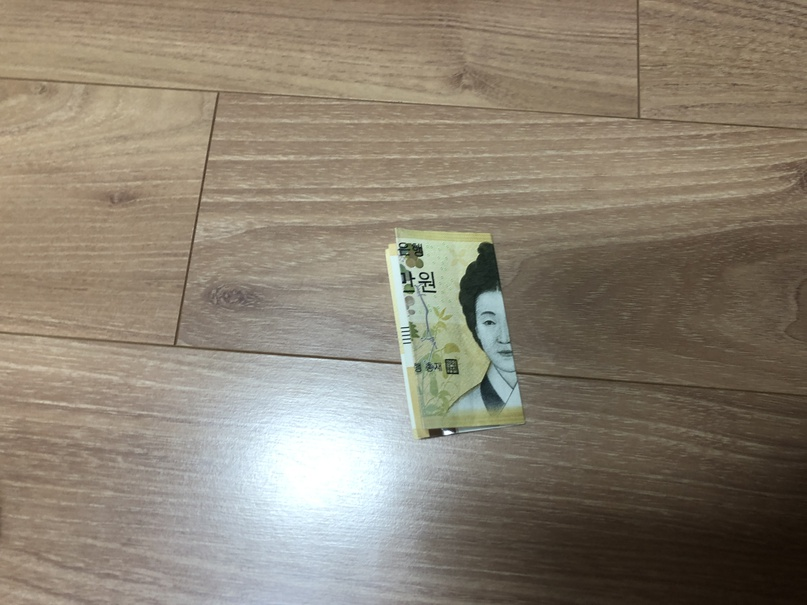50000won: (385, 227, 526, 440)
